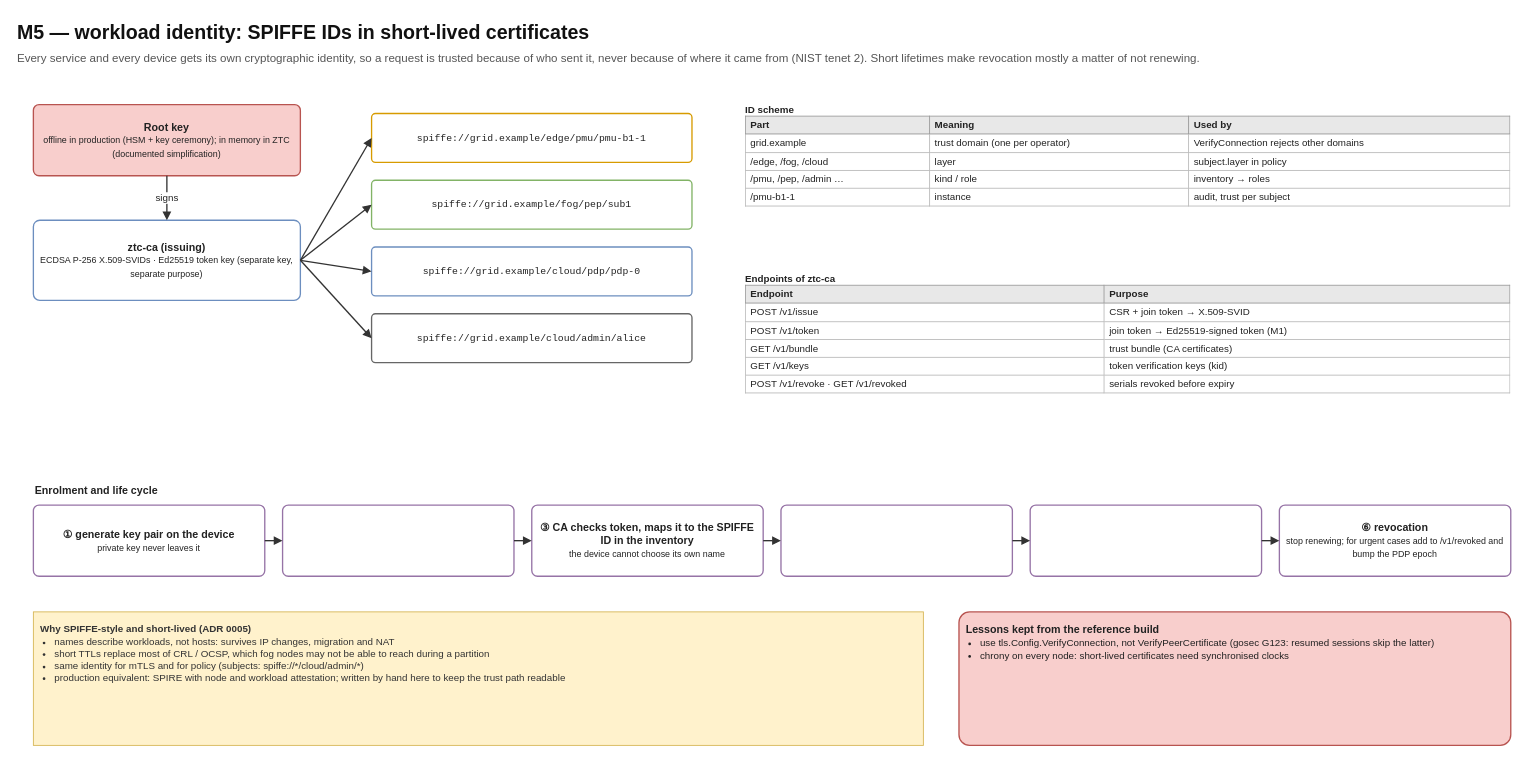
Some shapes in this 1526 by 761 pixel diagram are drawn without their labels. Here are the shapes that lost their labels. From the top down, the box of each, then its label:
(282, 504, 514, 577): ② CSR + one-time join token join token issued out of band for this device
(780, 504, 1013, 577): ④ SVID with TTL (e.g. 1 h) URI SAN = SPIFFE ID; no IP or DNS names needed
(1029, 504, 1262, 577): ⑤ renew at 2/3 of lifetime a missed renewal expires the identity by itself
